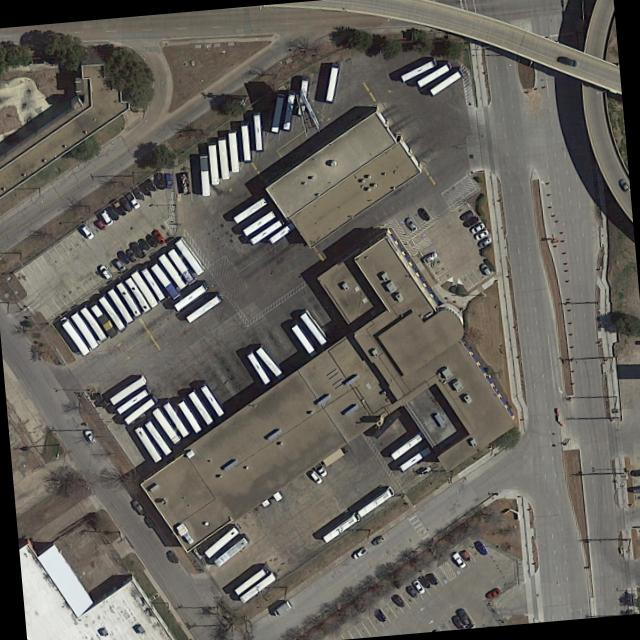large-vehicle: (212, 532, 252, 567), (148, 259, 182, 299), (296, 306, 330, 346), (164, 243, 197, 284), (68, 307, 101, 348), (203, 522, 241, 557), (155, 249, 188, 289), (60, 315, 93, 355), (173, 235, 206, 275), (355, 484, 395, 517), (108, 372, 148, 405), (128, 266, 160, 307), (320, 510, 361, 542), (246, 214, 287, 246), (96, 290, 128, 330), (132, 422, 163, 462), (150, 406, 182, 444), (239, 570, 277, 602), (78, 303, 109, 342), (142, 416, 173, 455), (161, 397, 191, 437), (233, 563, 270, 595), (172, 279, 210, 310), (140, 262, 170, 301), (106, 284, 136, 323), (288, 317, 318, 356), (185, 291, 222, 322), (122, 394, 159, 425), (114, 278, 144, 316), (114, 384, 152, 414), (123, 274, 152, 313), (389, 429, 425, 459), (89, 300, 118, 337), (186, 388, 215, 425), (244, 347, 272, 385), (198, 381, 227, 416), (427, 67, 463, 95), (396, 444, 432, 472), (415, 59, 452, 86), (254, 343, 283, 377), (241, 208, 276, 236), (399, 56, 438, 81), (176, 396, 203, 432), (232, 196, 267, 223), (266, 219, 296, 244), (323, 61, 340, 102), (216, 134, 231, 178), (269, 91, 285, 132), (226, 128, 241, 171), (206, 140, 220, 183), (282, 89, 297, 129), (239, 119, 253, 161), (252, 109, 265, 150), (296, 76, 309, 114), (198, 154, 210, 194)
small-vehicle: (271, 599, 293, 618), (128, 238, 146, 258), (454, 606, 472, 626), (449, 550, 467, 569), (124, 189, 141, 209), (415, 571, 433, 589), (312, 457, 328, 477), (556, 53, 578, 67), (110, 198, 127, 216), (117, 193, 133, 212), (82, 426, 98, 445), (472, 538, 489, 555), (97, 262, 113, 280), (98, 207, 114, 225), (415, 205, 431, 222), (104, 203, 120, 220), (403, 214, 418, 232), (476, 234, 494, 249), (115, 247, 130, 265), (411, 577, 427, 593), (151, 227, 166, 244), (351, 544, 368, 559), (421, 249, 439, 263), (462, 213, 480, 227), (484, 585, 502, 599), (308, 468, 323, 484), (372, 606, 387, 622), (404, 583, 420, 598), (80, 223, 95, 239), (165, 547, 179, 564), (136, 236, 151, 251), (137, 180, 152, 195), (143, 176, 158, 191), (478, 261, 493, 276), (142, 512, 156, 528), (144, 231, 158, 247), (425, 569, 439, 585), (470, 220, 487, 233), (458, 207, 475, 220), (130, 185, 144, 200), (113, 257, 127, 272), (94, 216, 108, 231), (125, 247, 138, 263), (392, 594, 406, 608), (460, 547, 473, 562), (474, 227, 490, 239), (371, 533, 386, 545), (131, 499, 144, 512), (156, 170, 165, 188), (165, 171, 173, 188), (632, 485, 640, 492), (633, 468, 640, 474)
